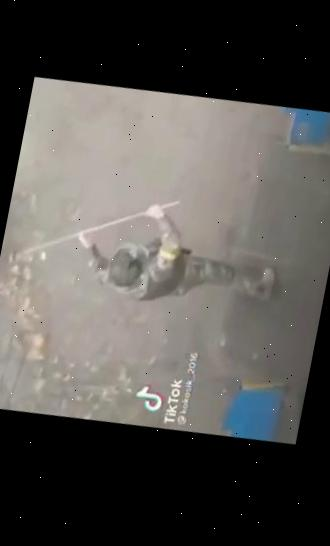person: (65, 179, 286, 332)
